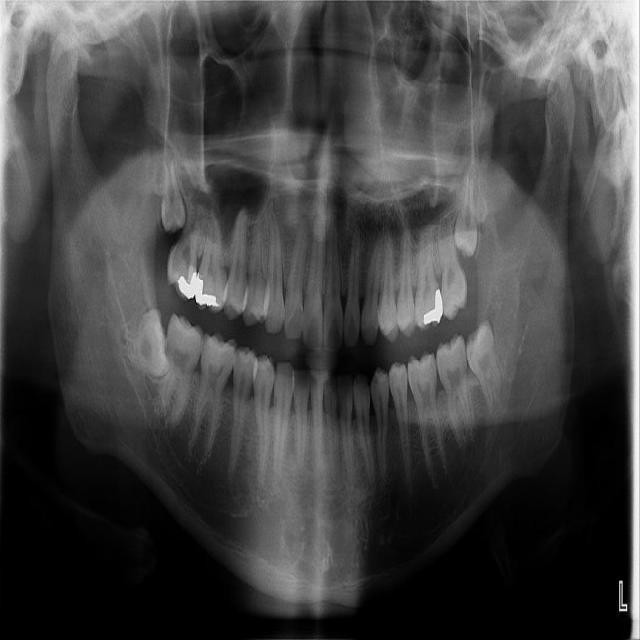3M ESPE Implant: (152, 145, 188, 237)
52: (409, 276, 446, 333), (166, 237, 197, 302), (195, 257, 227, 314)
73: (596, 557, 600, 567)
BioHorizons Implant: (436, 216, 469, 322)
BioLife Implant: (454, 170, 478, 259)
Biomet 3i Implant: (459, 319, 510, 416)
Blue Sky Bio Implant: (434, 333, 474, 447)
Caries: (162, 189, 209, 302)
Implant: (158, 312, 206, 427)
Keystone Dental Implant: (104, 307, 181, 390)
